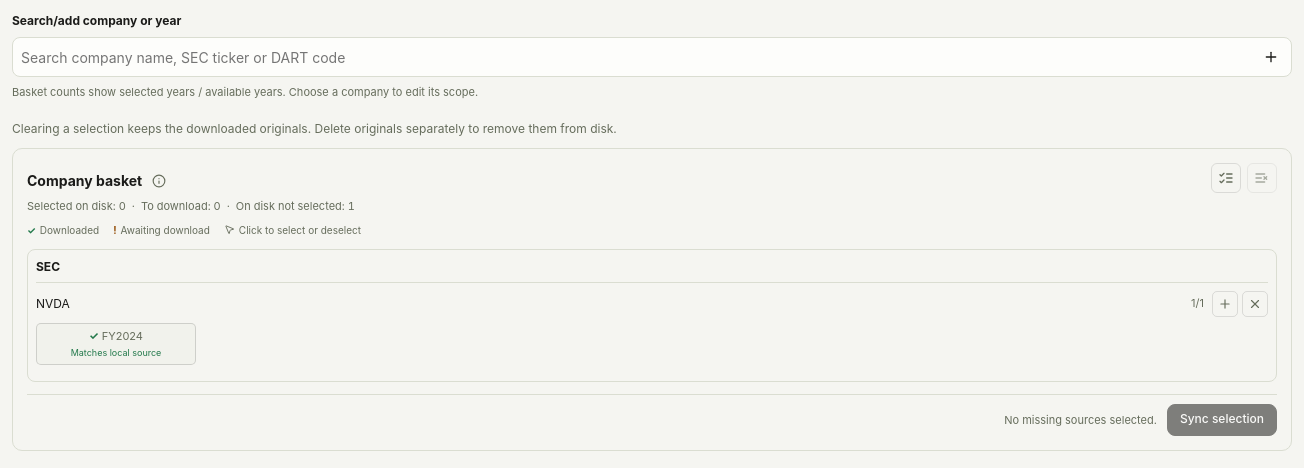
Test case: company and year source matrix › separates current ingestion from downloaded-source availability
The width and height of the screenshot is (1304, 468).
Check: the text "Matches local source" is shown, box [71,347,161,358]
Click the button with aria-label "NVDA FY2024 · On disk" at (116,344), box [36,323,196,365]
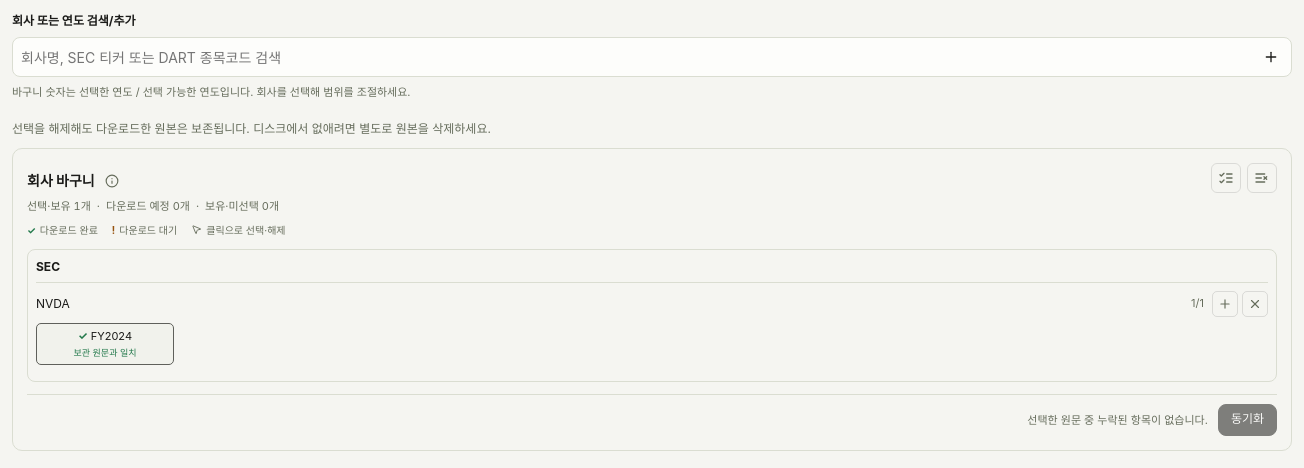
Check: the text "보관 원문과 일치" is shown, box [74,347,136,358]
